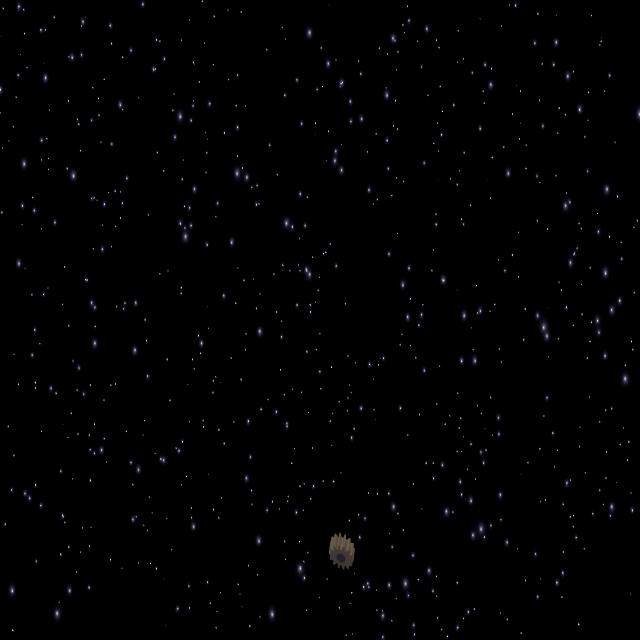large_debris: (324, 526, 358, 574)
